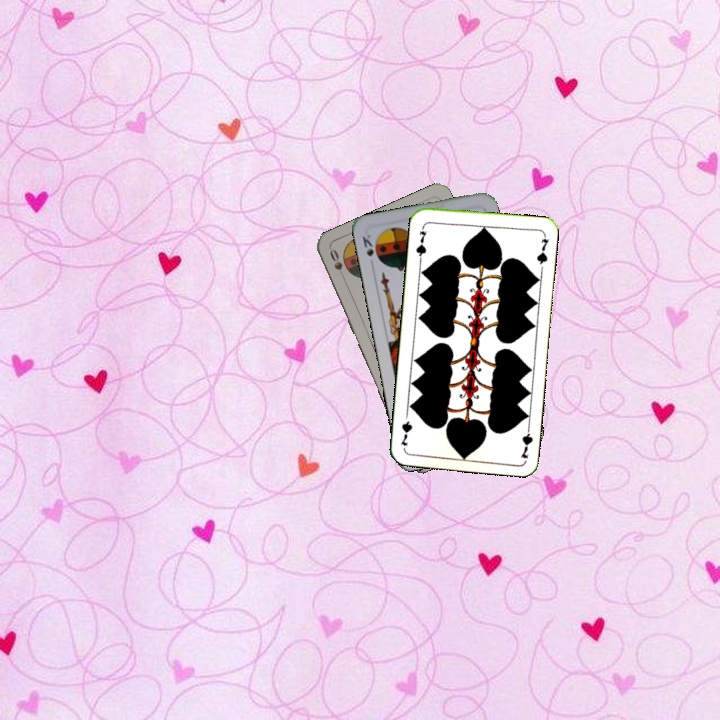G7: (516, 420, 535, 460), (412, 221, 429, 262)
SK: (358, 229, 381, 262)
SO: (326, 245, 348, 284)
